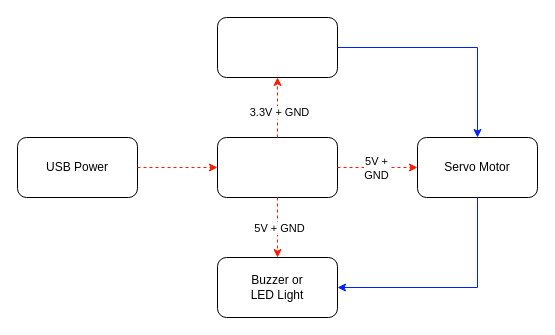
The diagram is 555 pixels wide and 335 high, and some of its shapes have lost their labels. The shapes that lost their labels are listed below. From the top down, each one's box as (x1, y1, x2, y2) in pixels, then its label:
(216, 16, 338, 78): RFID Sensor
(216, 136, 338, 198): Arduino
